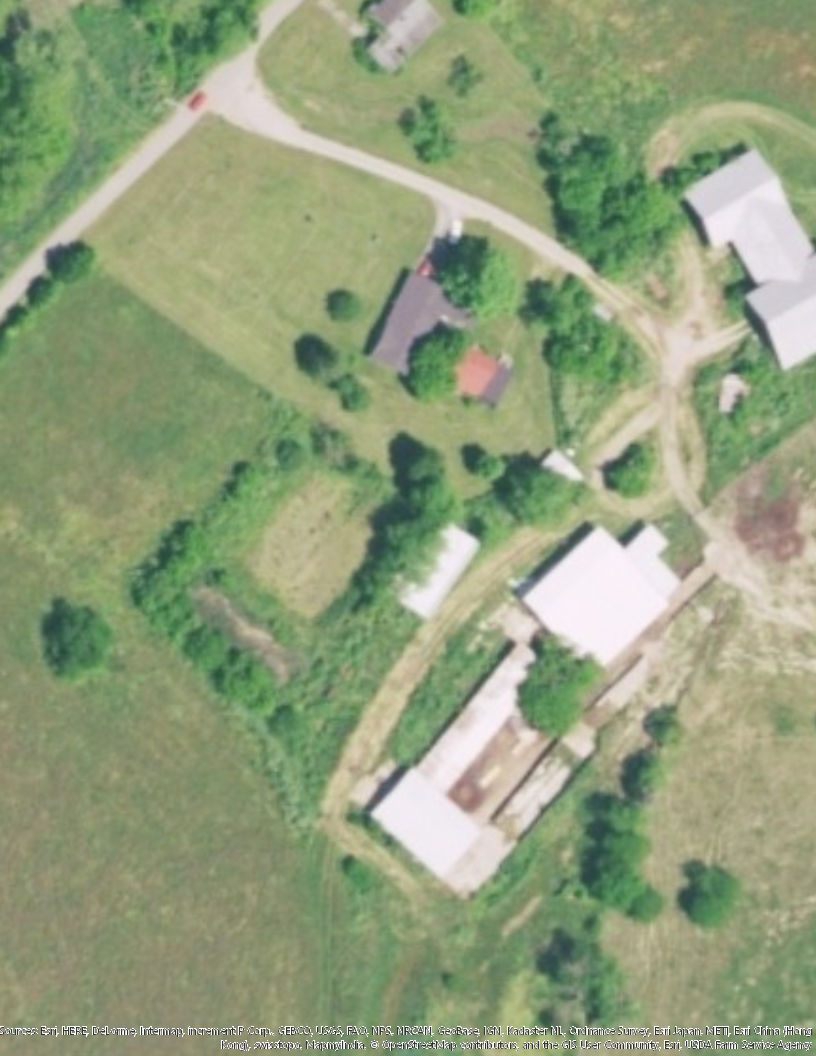cafo: (364, 518, 681, 908)
